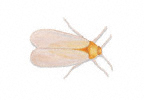whitefly: (28, 18, 113, 80)
